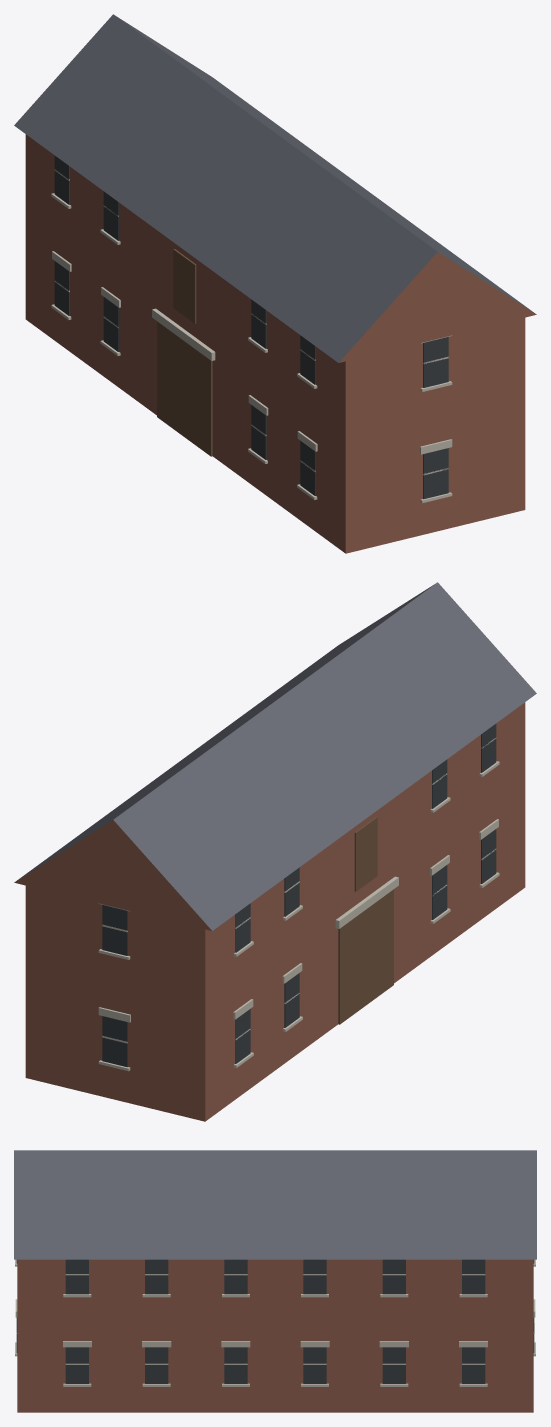
Rendered from house_2010_prairie_coach_house__draft_1904.glb.
3 views of the same model, one above another, from view 1: azimuth 30°, elevation 25°; view 2: azimuth 150°, elevation 25°; view 3: azimuth 270°, elevation 25° (orthographic). The views are drawn at different scales.
Parts seen in each view (by area): view 1: house_2010_prairie_coach_house__draft_1904; view 2: house_2010_prairie_coach_house__draft_1904; view 3: house_2010_prairie_coach_house__draft_1904.
Boxes of the visible parts, <box> form: house_2010_prairie_coach_house__draft_1904: <box>14,14,536,553</box>; house_2010_prairie_coach_house__draft_1904: <box>14,582,536,1121</box>; house_2010_prairie_coach_house__draft_1904: <box>14,1150,536,1412</box>.
Size of the model in its own units: 6.35 by 8.61 by 17.99.
